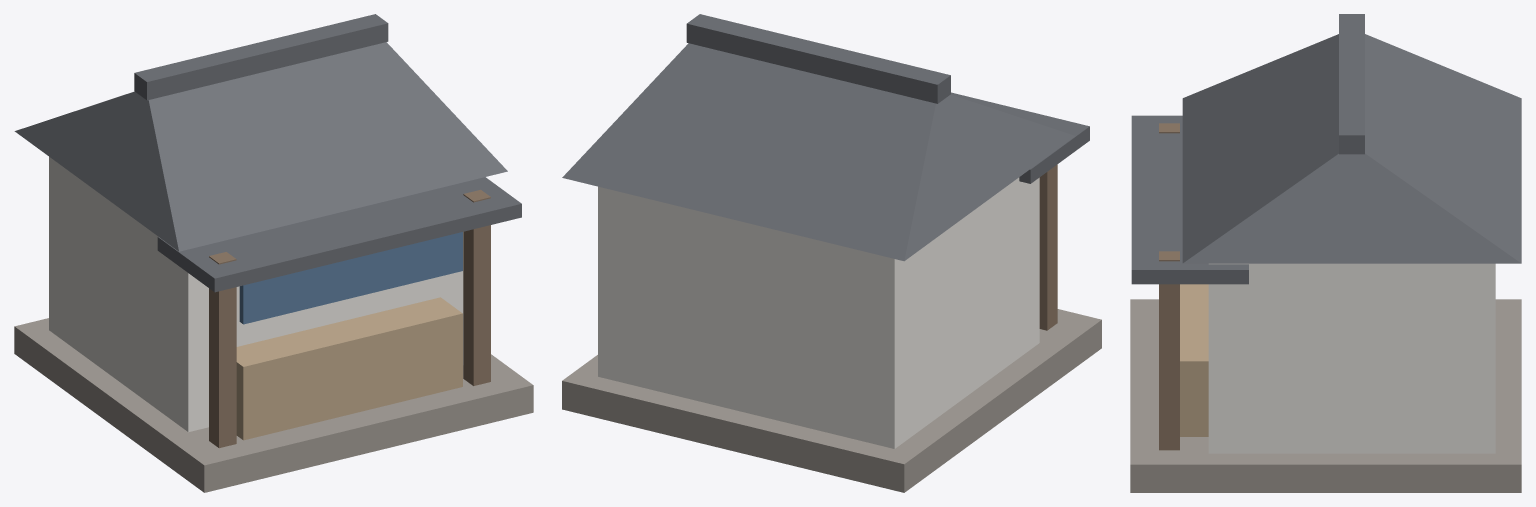
The model's file is commercial_l1_shouten.glb.
The picture shows the model from 3 angles, left to right: view 1: azimuth 30°, elevation 25°; view 2: azimuth 150°, elevation 25°; view 3: azimuth 270°, elevation 25°; orthographic projection. The views are drawn at different scales.
Parts seen in each view (by area): view 1: Main_Roof, Shop_Main, Stone_Base, Display_Counter, Front_Hisashi, Shop_Noren, Shop_Ridge, Eave_Support_L, Eave_Support_R; view 2: Shop_Main, Main_Roof, Stone_Base, Shop_Ridge, Eave_Support_L, Front_Hisashi; view 3: Main_Roof, Shop_Main, Stone_Base, Front_Hisashi, Display_Counter, Eave_Support_R, Shop_Ridge.
Part boxes in pixels (x1,y1,x2,y2): Main_Roof: (14, 42, 507, 251); Shop_Main: (49, 157, 463, 432); Stone_Base: (14, 318, 533, 492); Display_Counter: (236, 297, 462, 440); Front_Hisashi: (157, 177, 521, 292); Shop_Noren: (239, 232, 462, 324); Shop_Ridge: (134, 14, 388, 100); Eave_Support_L: (209, 252, 236, 448); Eave_Support_R: (463, 189, 490, 385); Shop_Main: (598, 177, 1039, 448); Main_Roof: (562, 43, 1074, 261); Stone_Base: (562, 309, 1101, 492); Shop_Ridge: (686, 14, 950, 103); Eave_Support_L: (1039, 164, 1057, 330); Front_Hisashi: (951, 92, 1089, 183); Main_Roof: (1182, 34, 1521, 263); Shop_Main: (1208, 263, 1495, 453); Stone_Base: (1130, 299, 1521, 492); Front_Hisashi: (1131, 115, 1248, 284); Display_Counter: (1180, 284, 1208, 436); Eave_Support_R: (1159, 251, 1179, 450); Shop_Ridge: (1339, 14, 1364, 154).
Bounding box in the file's own units: 1.5 × 1.42 × 1.5.
